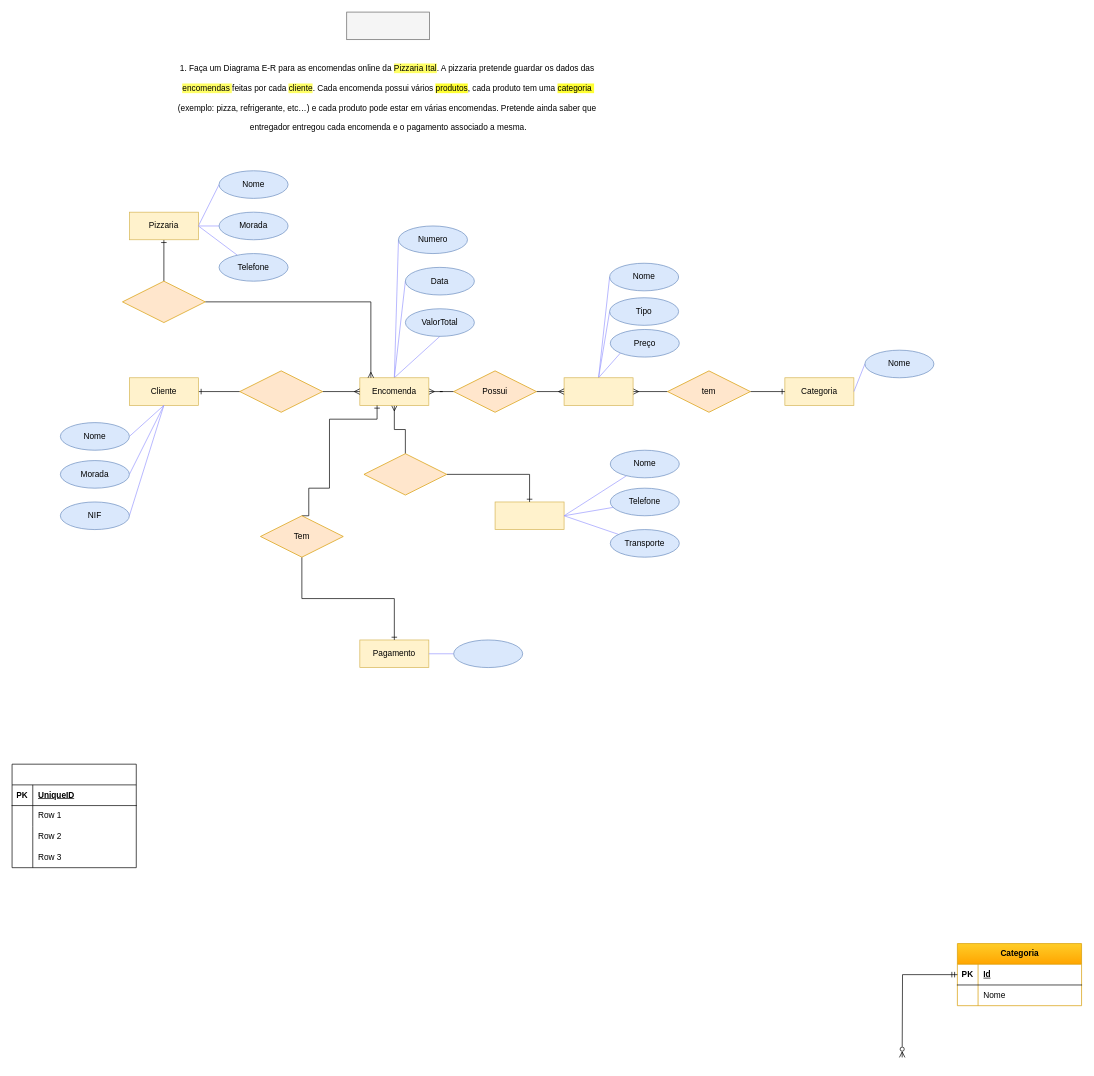
Some shapes in this 1094 by 1076 pixel diagram are drawn without their labels. Each missing label, with the box of its shape:
Contem: (363, 453, 447, 495)
Contém: (122, 280, 205, 323)
Entregador: (494, 501, 564, 530)
Exercício 1: (346, 11, 430, 40)
Faz: (239, 370, 323, 412)
Produto: (563, 377, 633, 405)
Table: (11, 763, 136, 868)
TipoPagamento: (453, 639, 523, 668)
